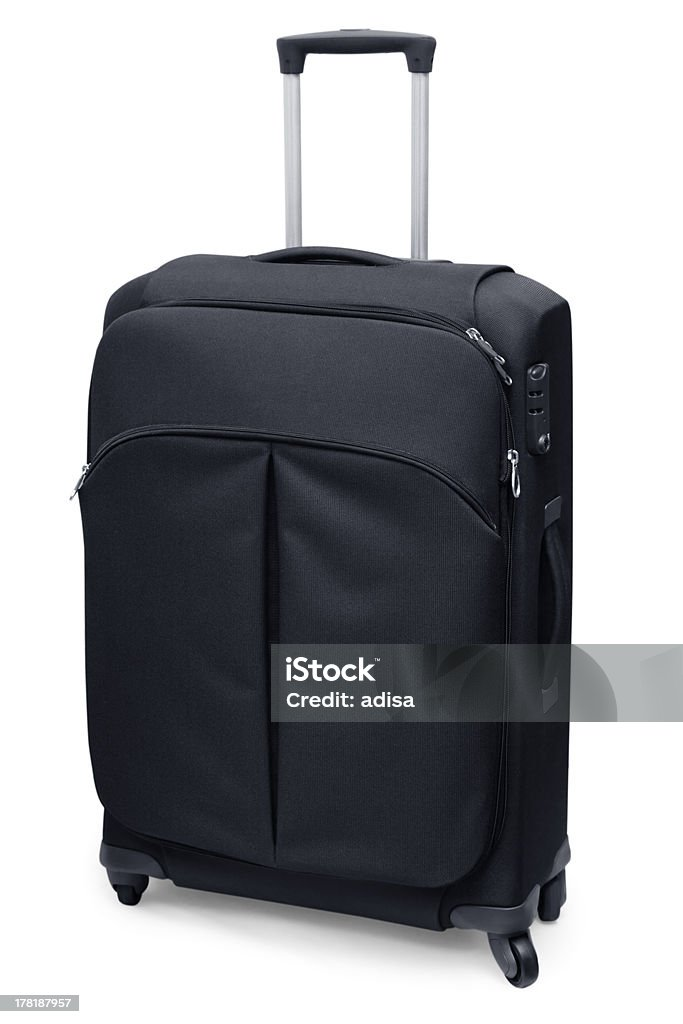Bag: (68, 18, 582, 972)
Handle: (263, 21, 450, 264)
